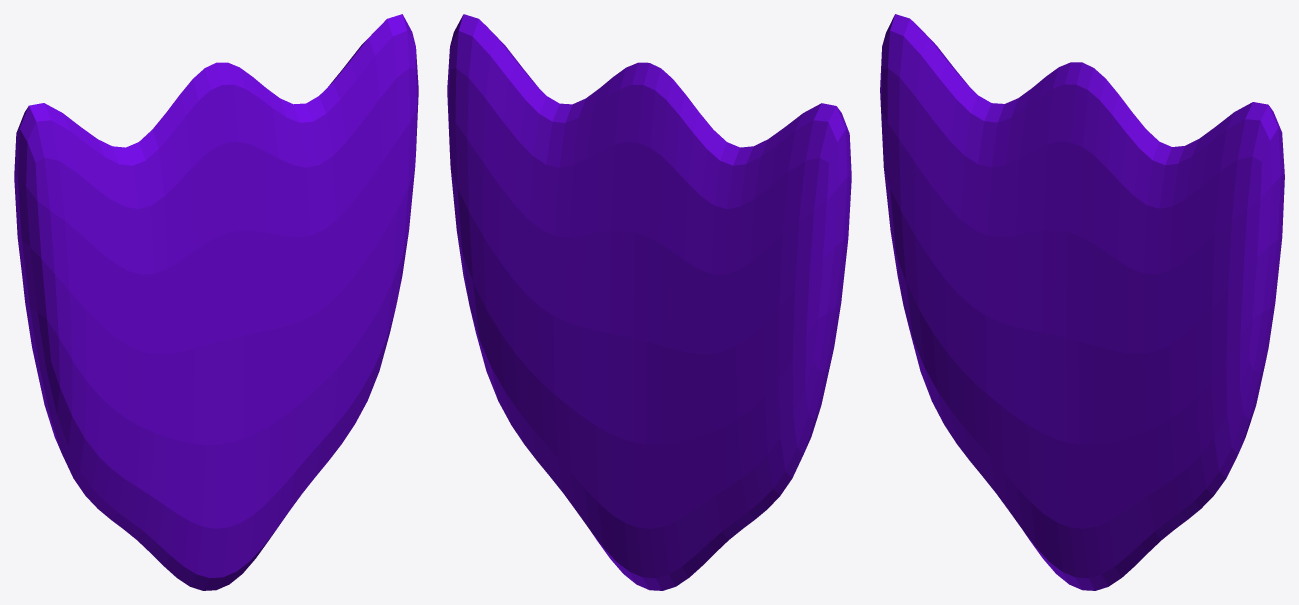
Rendered from gamejam Extras 3.fbx.
3 views of the same model, side by side, from view 1: azimuth 30°, elevation 25°; view 2: azimuth 150°, elevation 25°; view 3: azimuth 330°, elevation 25° (orthographic).
Visible parts, largest first — view 1: Cube; view 2: Cube; view 3: Cube.
Boxes of the visible parts, x1,y1,x2,y2 form: Cube: [14, 14, 418, 590]; Cube: [447, 14, 851, 590]; Cube: [880, 14, 1284, 590].
Bounding box in the file's own units: 1162 × 1485 × 184.
